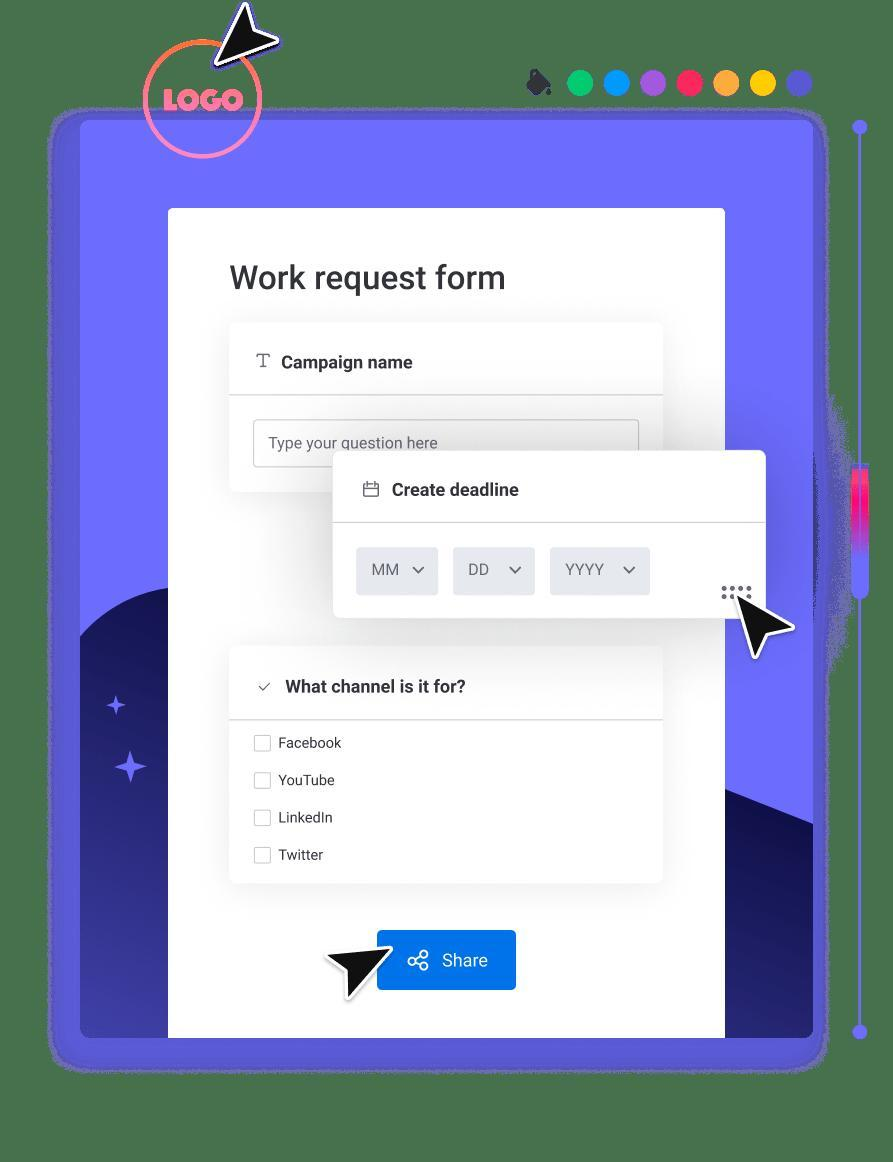button: (378, 931, 517, 992)
checkbox: (255, 736, 272, 753), (255, 773, 272, 790), (256, 848, 272, 864), (255, 812, 271, 826)
dropdown: (551, 549, 652, 597), (358, 548, 439, 597), (454, 548, 536, 596)
icon: (359, 480, 385, 502), (255, 351, 272, 371)
label: (282, 355, 415, 376), (392, 482, 521, 500), (277, 808, 337, 830), (279, 735, 344, 753), (279, 774, 339, 791), (278, 847, 325, 864)
